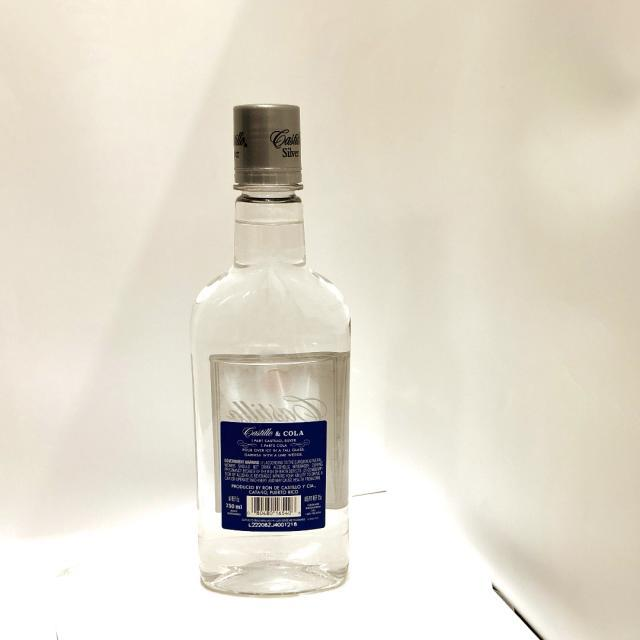CASTILLO-SILVER-RUM-PT-750ML: (184, 101, 356, 604)
